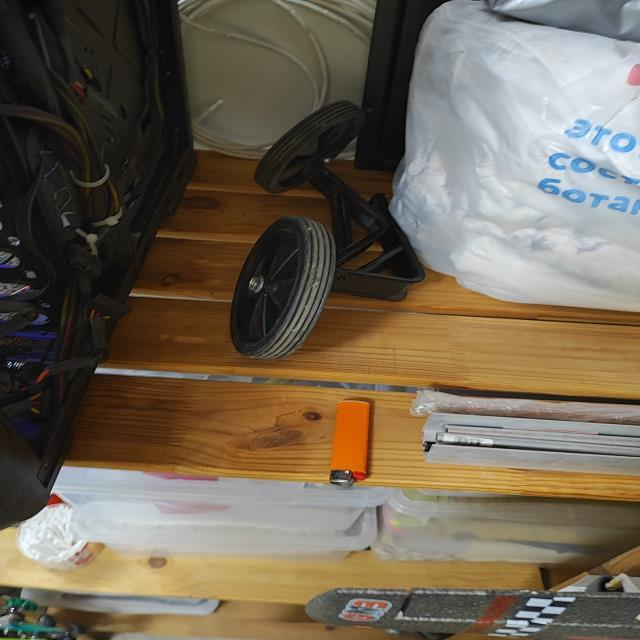lighter: (330, 400, 371, 484)
